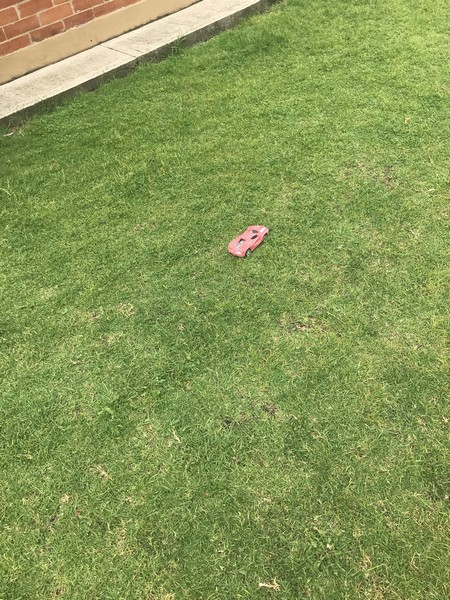RC: (226, 222, 271, 259)
